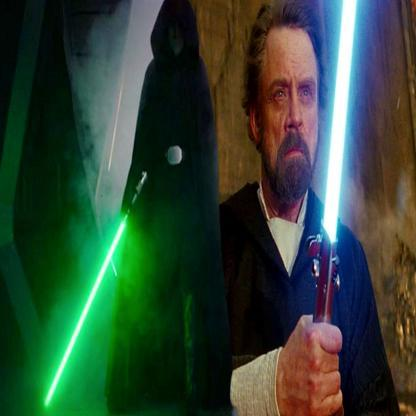lightsaber: (291, 0, 375, 366), (44, 169, 150, 412)
